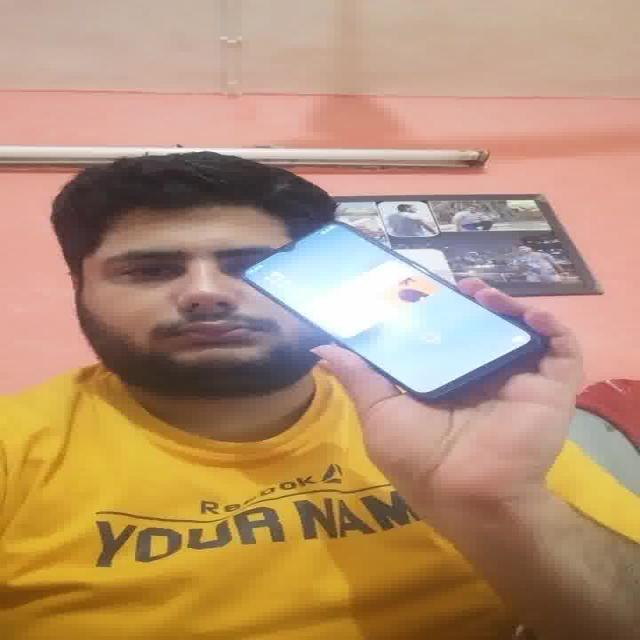Phone: (245, 222, 546, 402)
